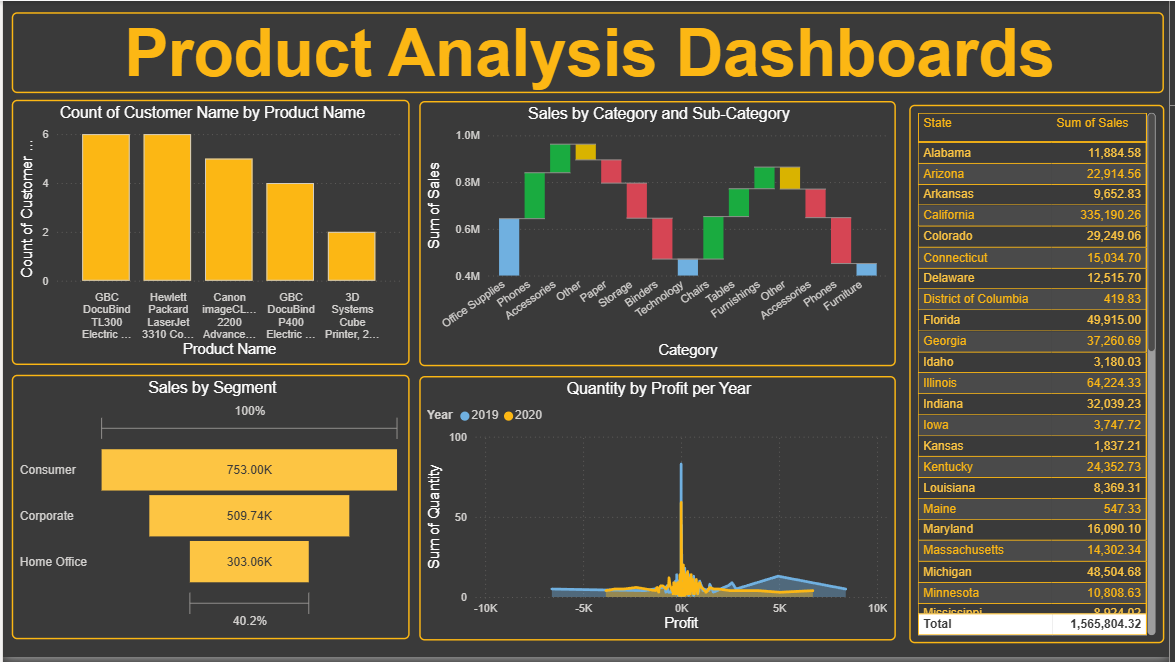

Layout of this report page (visuals, bound fields, positions):
{"tool":"powerbi","page":{"name":"Page 3","canvas":[1280,720],"ordinal":2},"visuals":[{"type":"columnChart","fields":{"Category":["Amazon Store Sales Data xlsx -.Product Name"],"Y":["CountNonNull(Amazon Store Sales Data xlsx -.Customer Name)"]},"box":[10,108.6,437.1,291.4],"z":0},{"type":"funnel","title":"Sales by Segment","fields":{"Category":["Amazon Store Sales Data xlsx -.Segment"],"Y":["Sum(Amazon Store Sales Data xlsx -.Sales)"]},"box":[10,410,437.1,290],"z":1000},{"type":"waterfallChart","title":" Sales by Category and Sub-Category","fields":{"Y":["Sum(Amazon Store Sales Data xlsx -.Sales)"],"Category":["Amazon Store Sales Data xlsx -.Category"],"Breakdown":["Amazon Store Sales Data xlsx -.Sub-Category"]},"box":[457.1,110,522.9,291.4],"z":2000},{"type":"tableEx","fields":{"Values":["Amazon Store Sales Data xlsx -.State","Sum(Amazon Store Sales Data xlsx -.Sales)"]},"box":[994.3,114.3,280,591.4],"z":3000},{"type":"areaChart","title":"Quantity by Profit per Year","fields":{"Y":["Sum(Amazon Store Sales Data xlsx -.Quantity)"],"Category":["Amazon Store Sales Data xlsx -.Profit"],"Series":["Amazon Store Sales Data xlsx -.Order Date.Variation.Date Hierarchy.Year"]},"box":[457.1,411.4,522.9,290],"z":4000},{"type":"textbox","title":"Product Analysis Dashboards","box":[9.6,12.3,1265.2,89.2],"z":5000}]}

Visuals, with their boxes in screenshot pixels (x1, y1, x2, y2), scaled from the page's 1280x720 canvas onto the 1175x662 screenshot:
columnChart - Amazon Store Sales Data xlsx -.Product Name x CountNonNull(Amazon Store Sales Data xlsx -.Customer Name): {"left": 9, "top": 100, "right": 410, "bottom": 368}
"Sales by Segment" funnel: {"left": 9, "top": 377, "right": 410, "bottom": 644}
" Sales by Category and Sub-Category" waterfallChart: {"left": 420, "top": 101, "right": 900, "bottom": 369}
tableEx - Amazon Store Sales Data xlsx -.State x Sum(Amazon Store Sales Data xlsx -.Sales): {"left": 913, "top": 105, "right": 1170, "bottom": 649}
"Quantity by Profit per Year" areaChart: {"left": 420, "top": 378, "right": 900, "bottom": 645}
"Product Analysis Dashboards" textbox: {"left": 9, "top": 11, "right": 1170, "bottom": 93}
